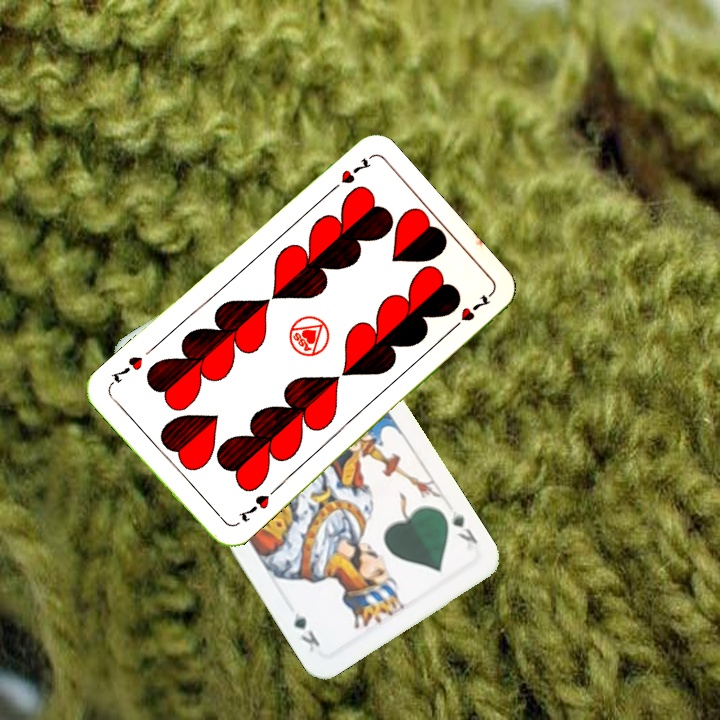GK: (446, 506, 480, 547)
H7: (324, 153, 374, 196), (234, 490, 272, 525)
